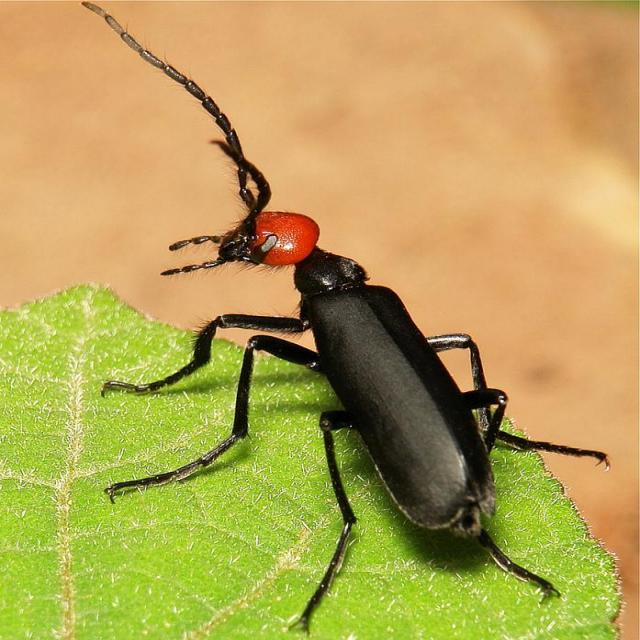BlisterBeetle-Adult-: (73, 0, 615, 611)
